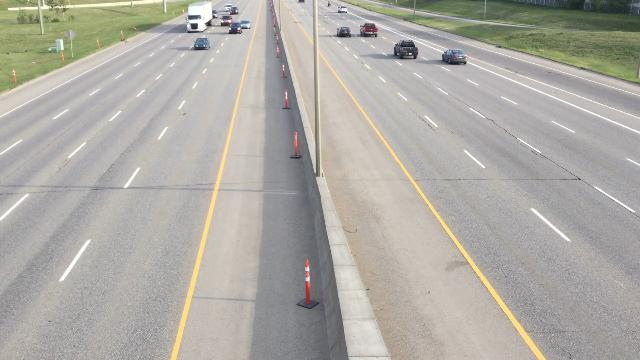car: (441, 47, 468, 66), (361, 22, 379, 38), (193, 37, 211, 52), (227, 21, 243, 36), (336, 25, 353, 39), (220, 15, 232, 27), (239, 20, 251, 29), (229, 6, 239, 15), (224, 3, 232, 11), (338, 6, 347, 13), (211, 10, 218, 18)
motorcycle: (327, 1, 331, 7)
pickup-truck: (392, 39, 420, 60)
truck: (184, 1, 214, 33)
